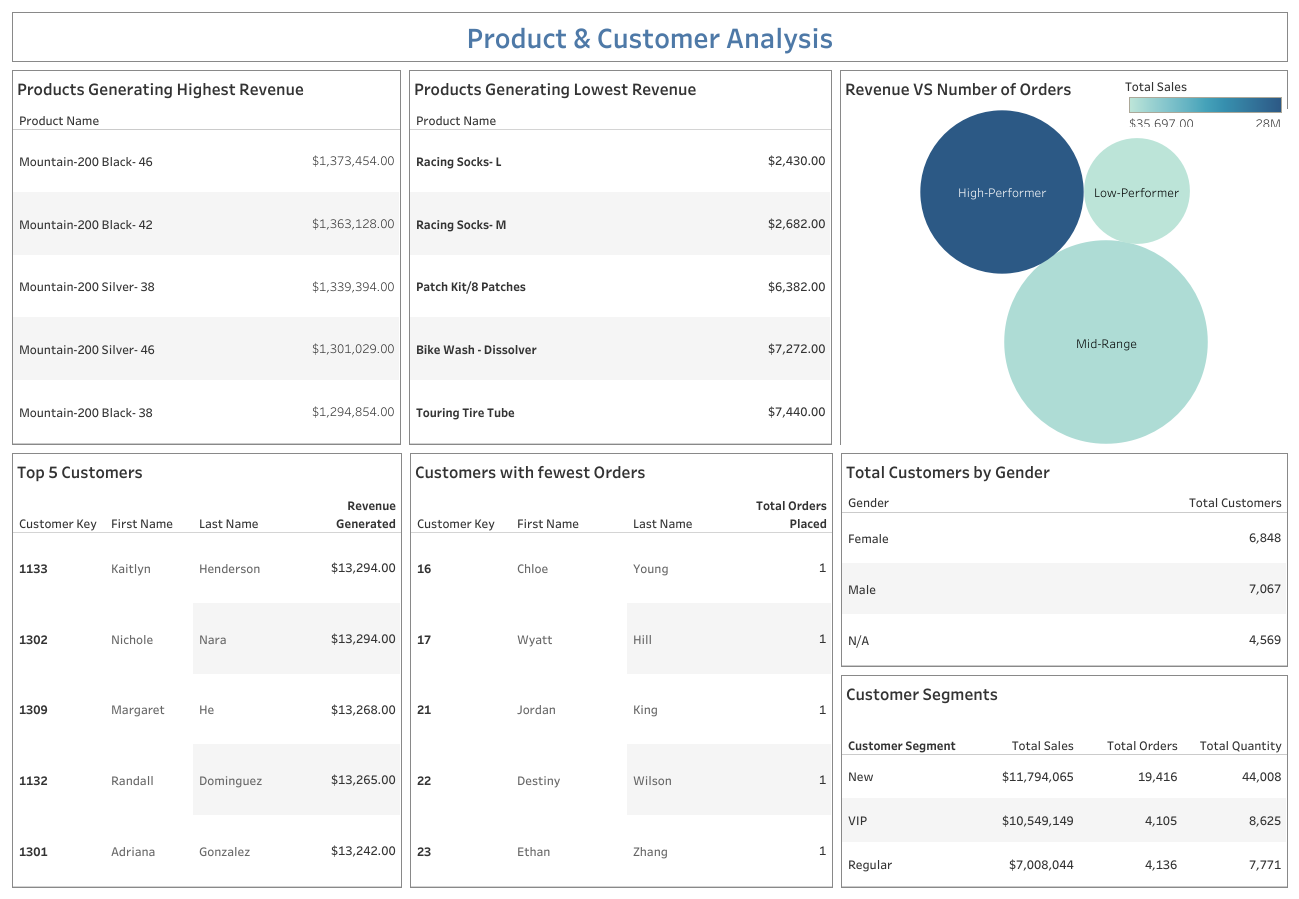

The page's visual inventory and layout, read from the dashboard file:
{"tool":"tableau","page":{"name":"Product & Customer Analysis","canvas":[1300,900],"ordinal":1},"visuals":[{"type":"text","box":[8,8,1284,58]},{"type":"worksheet","title":"products_generating_highest_revenue","mark":"Automatic","rows":["product_name"],"box":[8,66,397,383.1]},{"type":"worksheet","title":"products_generating_lowest_revenue","mark":"Automatic","rows":["product_name"],"box":[405,66,431,383.1]},{"type":"worksheet","title":"revenue_vs_orders","mark":"Circle","box":[836,66,456,383.1]},{"type":"legend","title":"revenue_vs_orders","param":"[federated.123js9d03f8cjo15x891f0hlhi6t (copy)].[sum:total_sales:qk]","box":[1125,73,161,54]},{"type":"worksheet","title":"top_5_customers","mark":"Automatic","rows":["customer_key","first_name","last_name"],"cols":["Calculation_2537004341628420106"],"box":[8,449.1,398,442.9]},{"type":"worksheet","title":"customers_with_fewest_orders","mark":"Automatic","rows":["customer_key","first_name","last_name"],"cols":["Calculation_2537004341631950860"],"box":[406,449.1,431,442.9]},{"type":"worksheet","title":"customers_by_gender","mark":"Automatic","rows":["gender"],"cols":["Calculation_2537004341604167682"],"box":[837,449.1,455,221.9]},{"type":"worksheet","title":"metrics_by_customer_segment","mark":"Automatic","rows":["customer_segment"],"box":[837,671,455,221]}]}

Visuals, with their boxes in screenshot pixels (x1, y1, x2, y2), scaled from the page's 1300x900 canvas onto the 1299x899 screenshot:
text: 8 8 1291 66
"products_generating_highest_revenue" worksheet: 8 66 405 449
"products_generating_lowest_revenue" worksheet: 405 66 835 449
"revenue_vs_orders" worksheet (Circle marks): 835 66 1291 449
"revenue_vs_orders" legend: 1124 73 1285 127
"top_5_customers" worksheet: 8 449 406 891
"customers_with_fewest_orders" worksheet: 406 449 836 891
"customers_by_gender" worksheet: 836 449 1291 670
"metrics_by_customer_segment" worksheet: 836 670 1291 891
